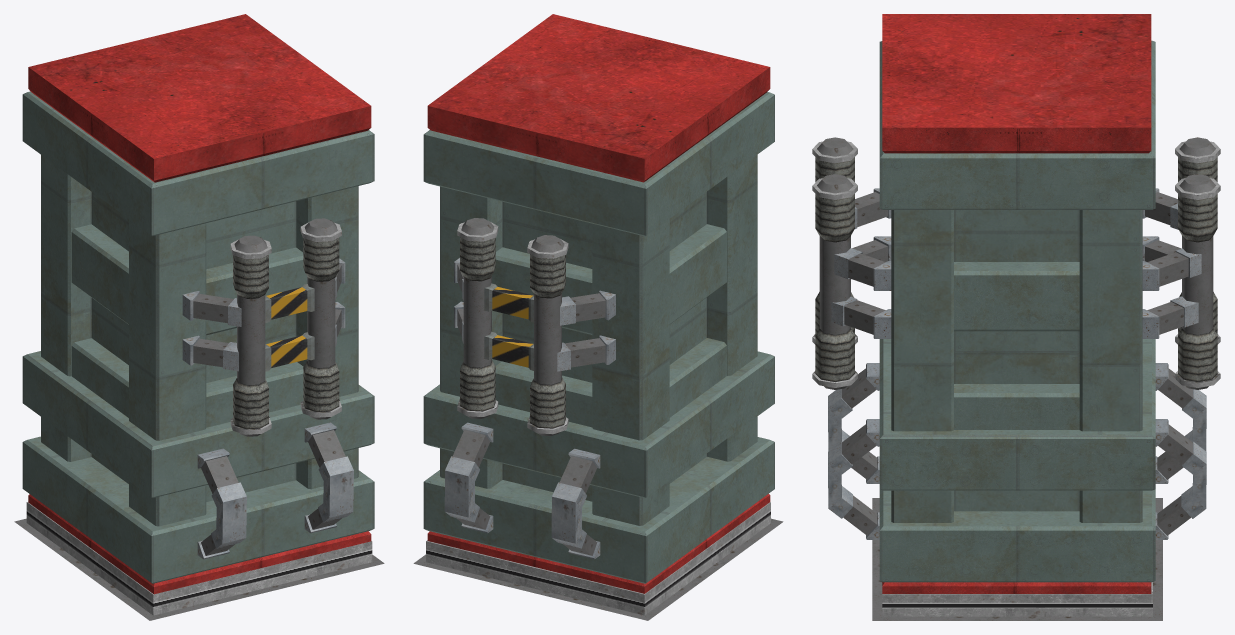
The model's file is Ob_WallDecorated_RC.fbx.
3 views of the same model, side by side, from view 1: azimuth 30°, elevation 25°; view 2: azimuth 150°, elevation 25°; view 3: azimuth 270°, elevation 25° (orthographic). The views are drawn at different scales.
Parts seen in each view (by area): view 1: Ob_WallDecorated_RC; view 2: Ob_WallDecorated_RC; view 3: Ob_WallDecorated_RC.
Part boxes in pixels (x1,y1,x2,y2): Ob_WallDecorated_RC: (14, 14, 384, 620); Ob_WallDecorated_RC: (413, 14, 783, 620); Ob_WallDecorated_RC: (812, 14, 1220, 620).
Bounding box in the file's own units: 1093 × 2044 × 1535.
